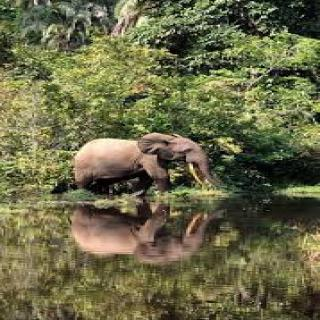Elephant: (61, 131, 232, 203)
